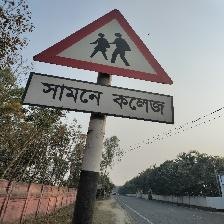College-in-front: (14, 1, 178, 143)
